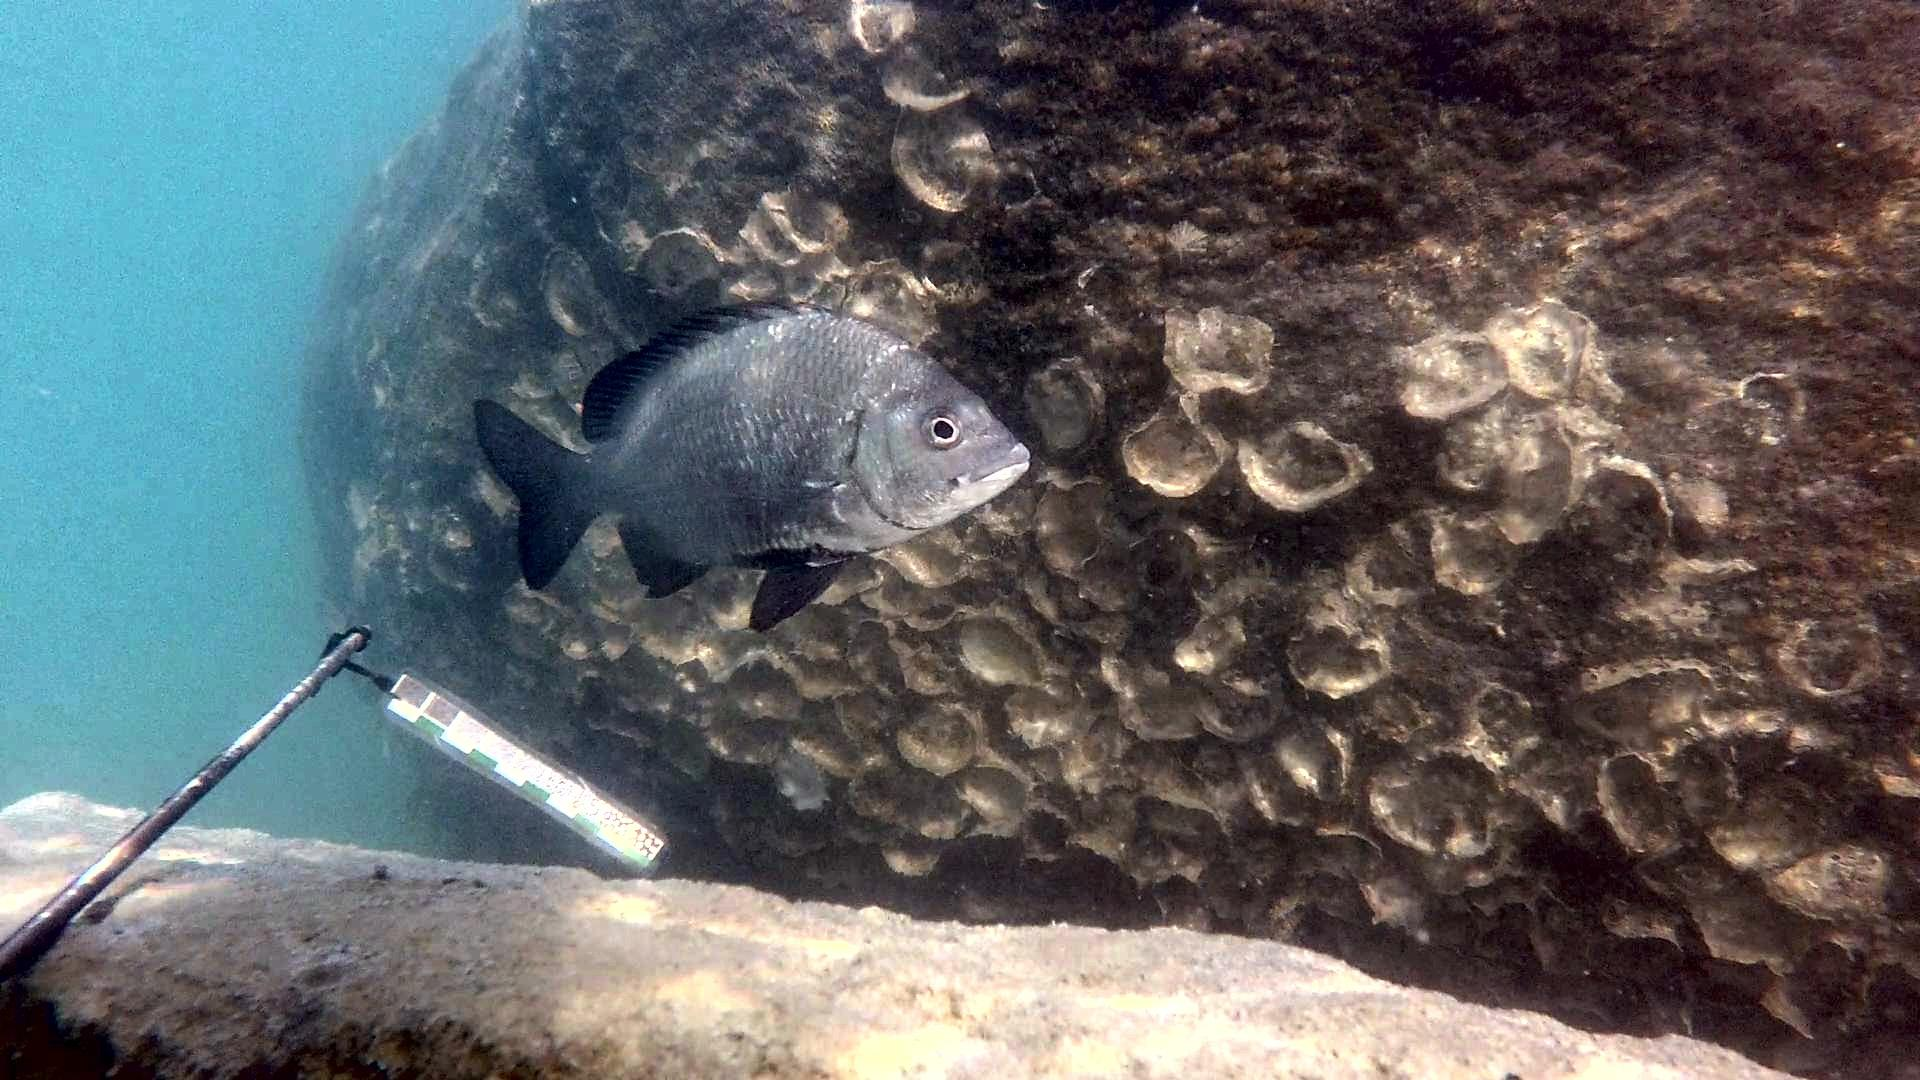acanthopagrus palmaris: (469, 293, 1039, 640)
